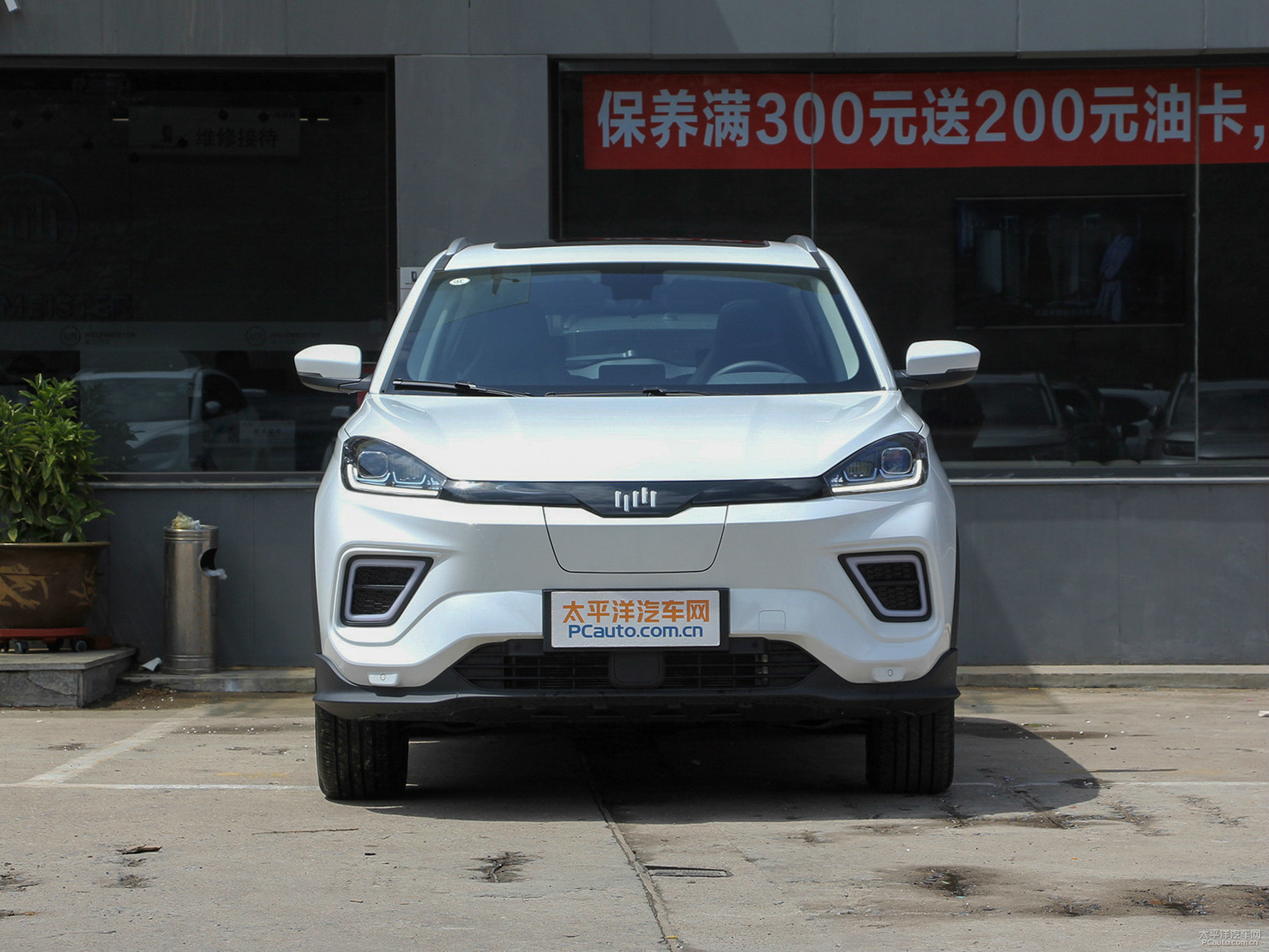WELTMEISTER: (615, 487, 656, 511)
